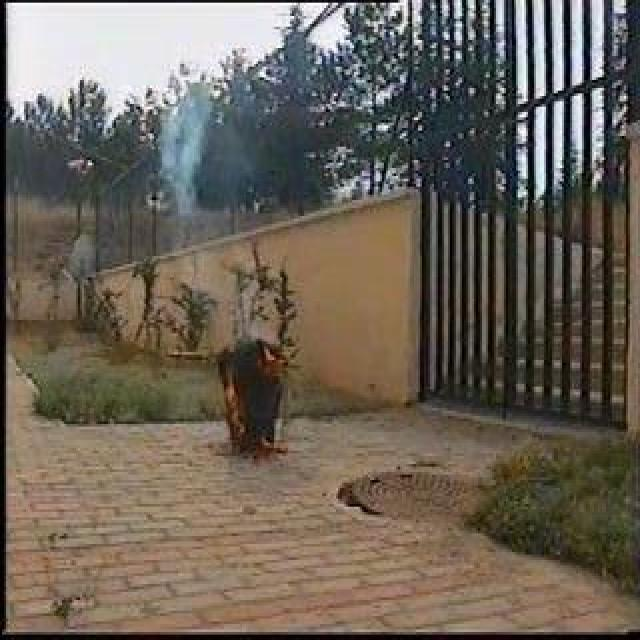smoke: (160, 81, 212, 196)
